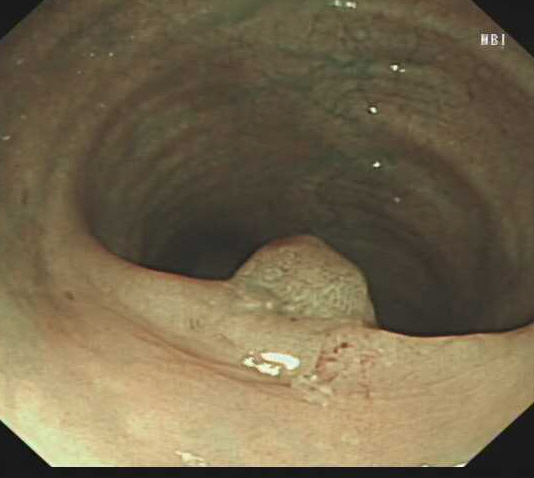adenoma: (224, 232, 380, 336)
